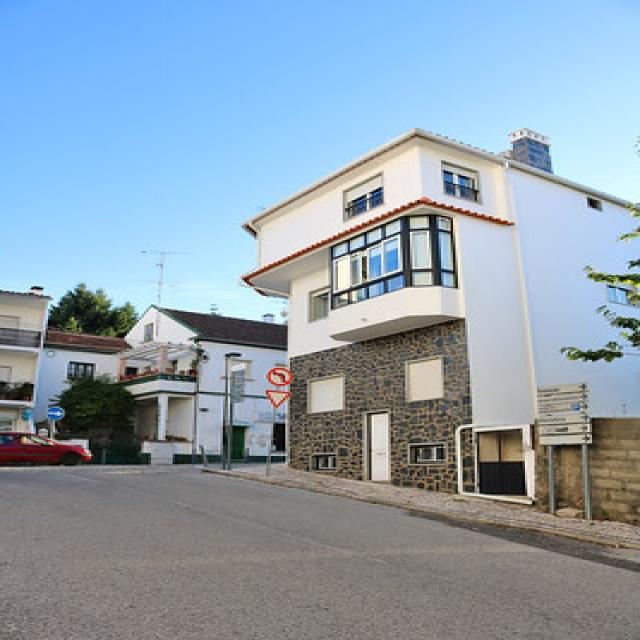Normal_building: (239, 123, 640, 497), (118, 304, 286, 464)
